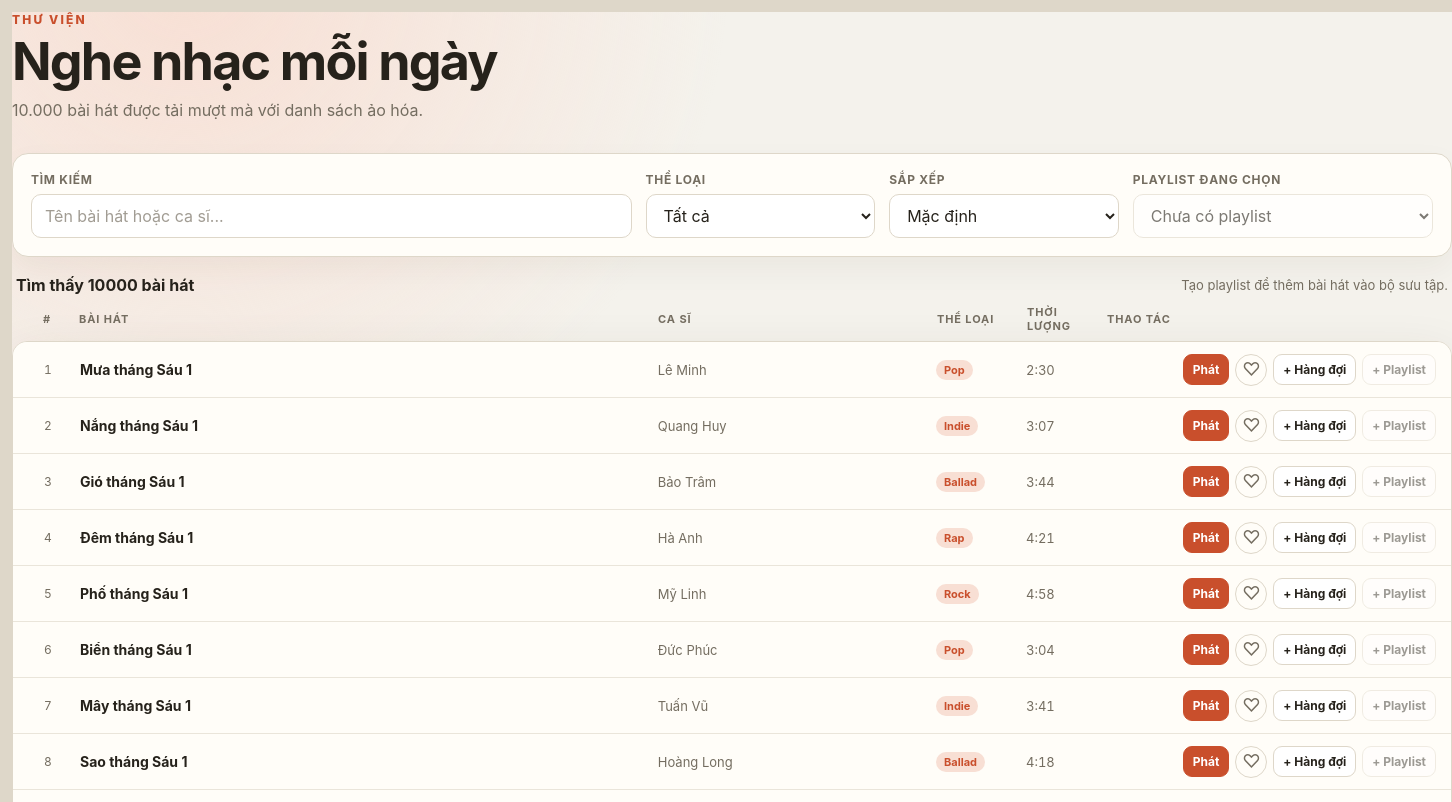
Test: LibraryPage › chỉ lọc sau khi ngừng gõ 300ms và kết hợp với thể loại
Type "mưa" into the search field labelled "Tìm kiếm". click: (331, 216)
box: [31, 194, 632, 238]
Wait 300 ms
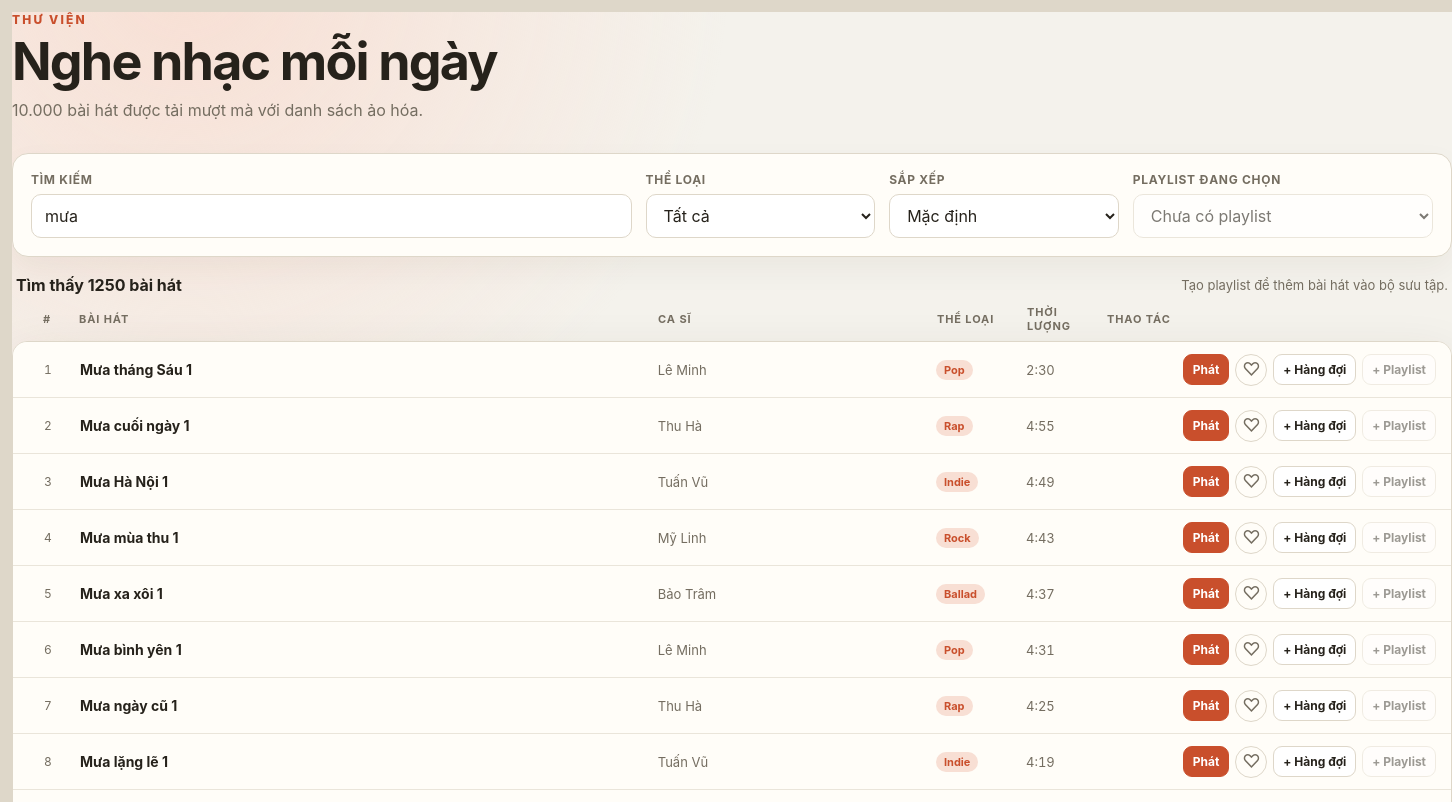
Result: the text "Tìm thấy 1250 bài hát" is shown at [16, 275, 182, 295]
Select "Rock" in the dropdown labelled "Thể loại". click: (760, 216)
box: [646, 194, 875, 238]
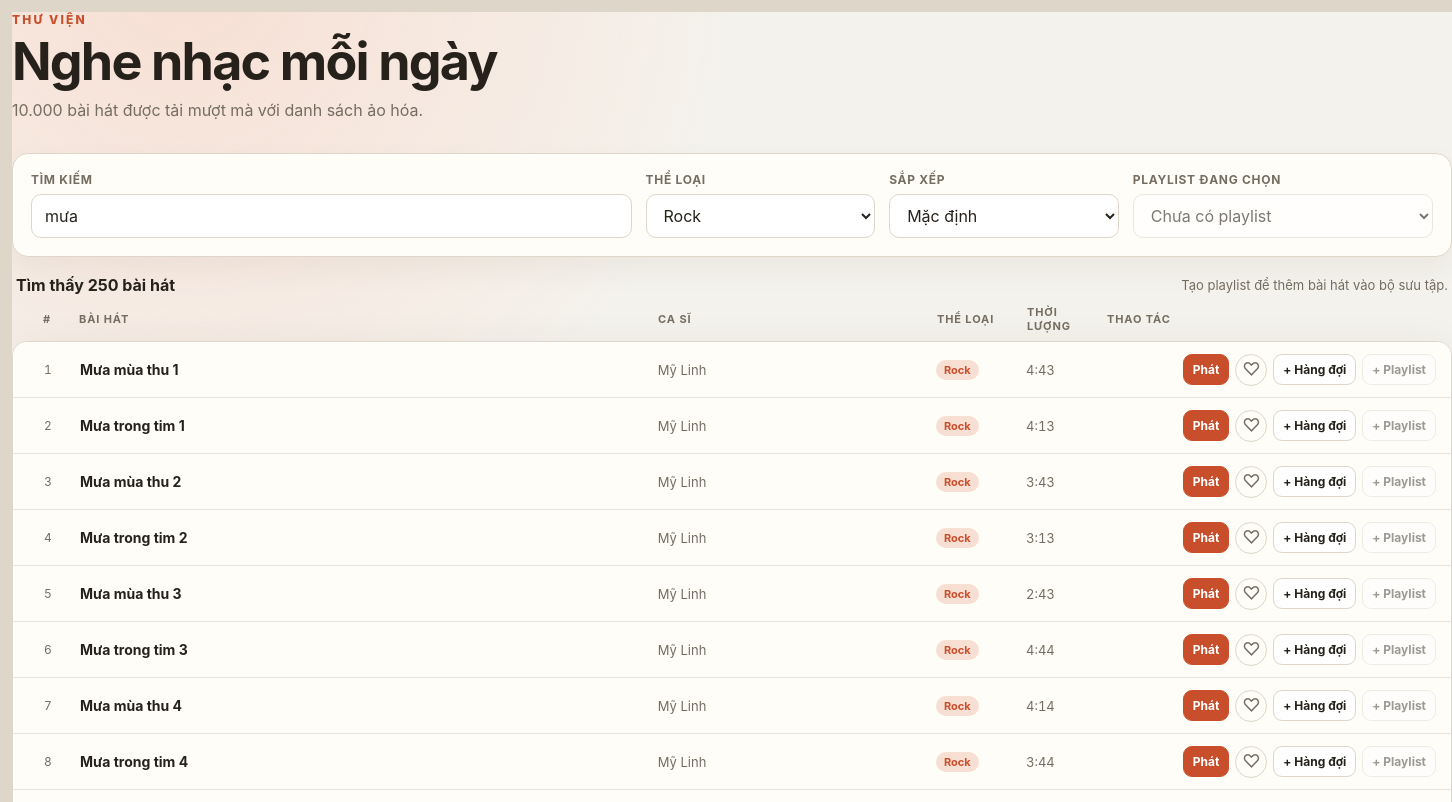
Result: the text "Tìm thấy 250 bài hát" is shown at [16, 275, 175, 295]
